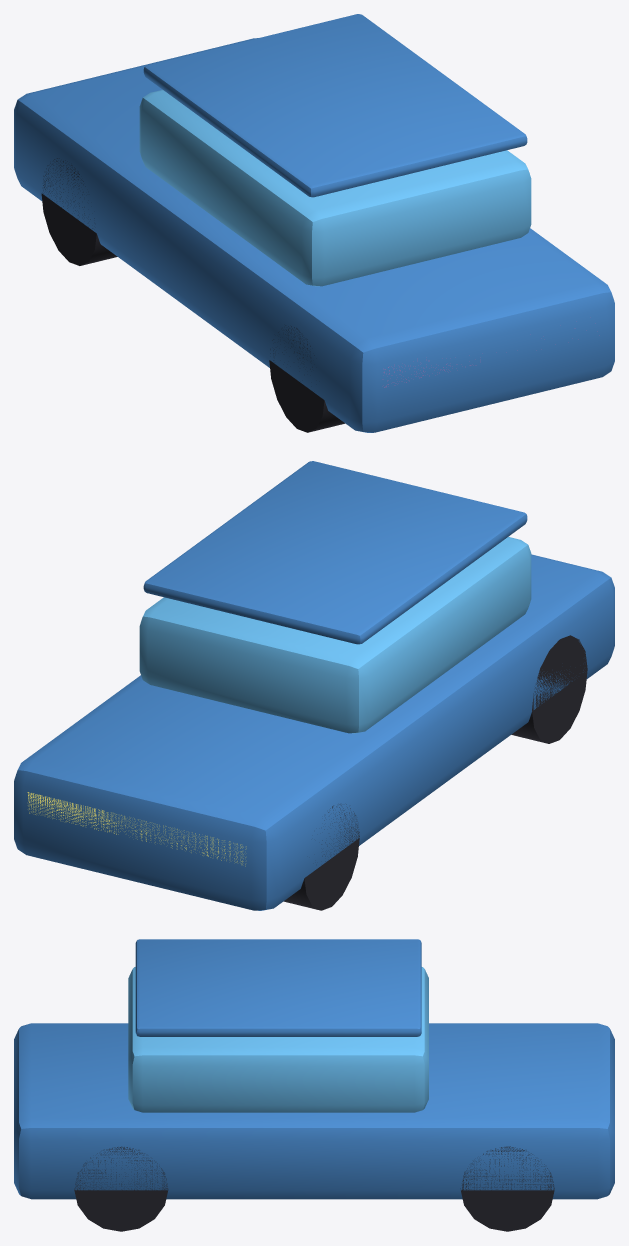
Rendered from traffic-car.glb.
3 renders of one model, top to bottom at view 1: azimuth 30°, elevation 25°; view 2: azimuth 150°, elevation 25°; view 3: azimuth 270°, elevation 25°, orthographic. The views are drawn at different scales.
Parts seen in each view (by area): view 1: body; view 2: body; view 3: body.
Boxes of the visible parts, x1=… form: body: x1=14, y1=14, x2=614, y2=432; body: x1=14, y1=461, x2=614, y2=910; body: x1=14, y1=939, x2=614, y2=1231.
Bounding box in the file's own units: 1.8 × 1.5 × 4.2.
